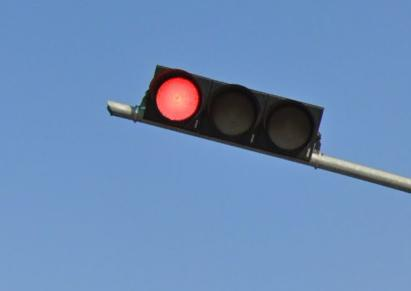redlight: (142, 70, 311, 159)
